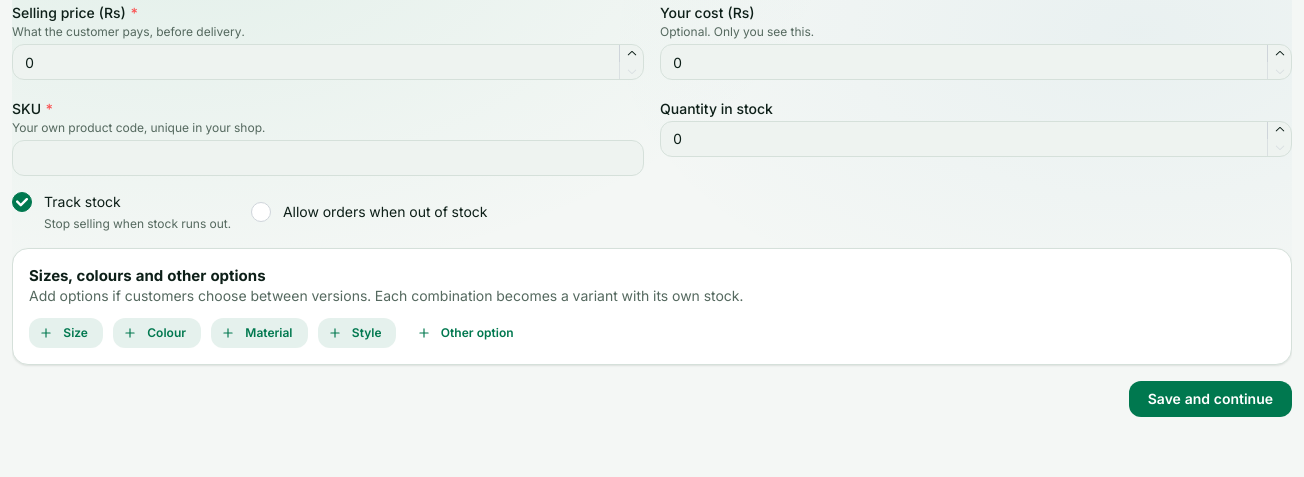
Scenario: product wizard steps (UI) › step 3 blocks a missing price and SKU (draft SKU is not offered)
Click the button "Save and continue". click: (1210, 399)
box: [1129,381,1292,417]
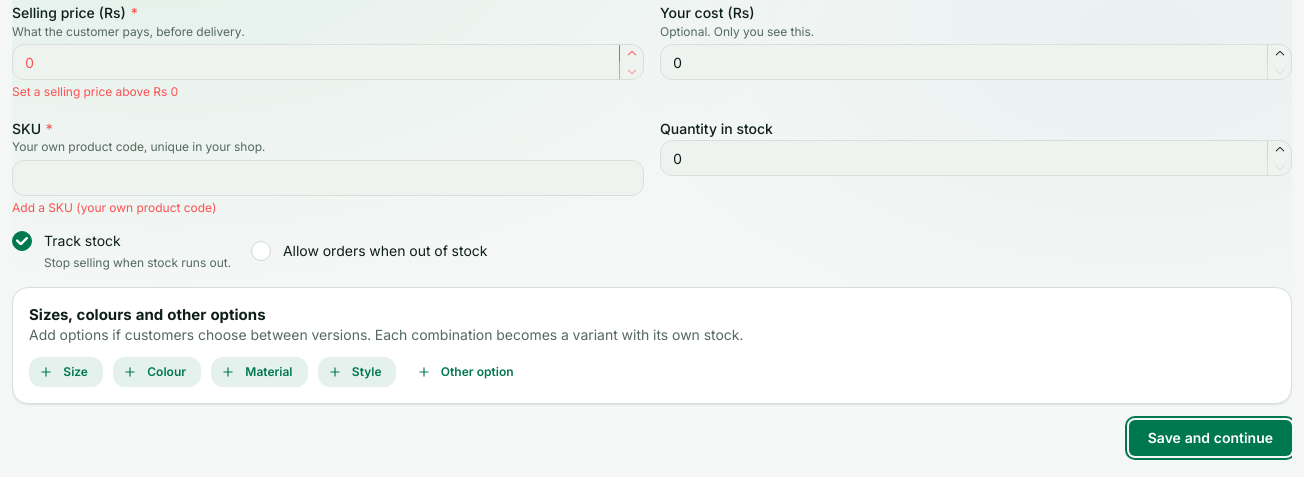
Result: the text "Add a SKU (your own product code)" is shown at [12,200,217,215]
Result: the text "Set a selling price above Rs 0" is shown at [12,84,178,99]
